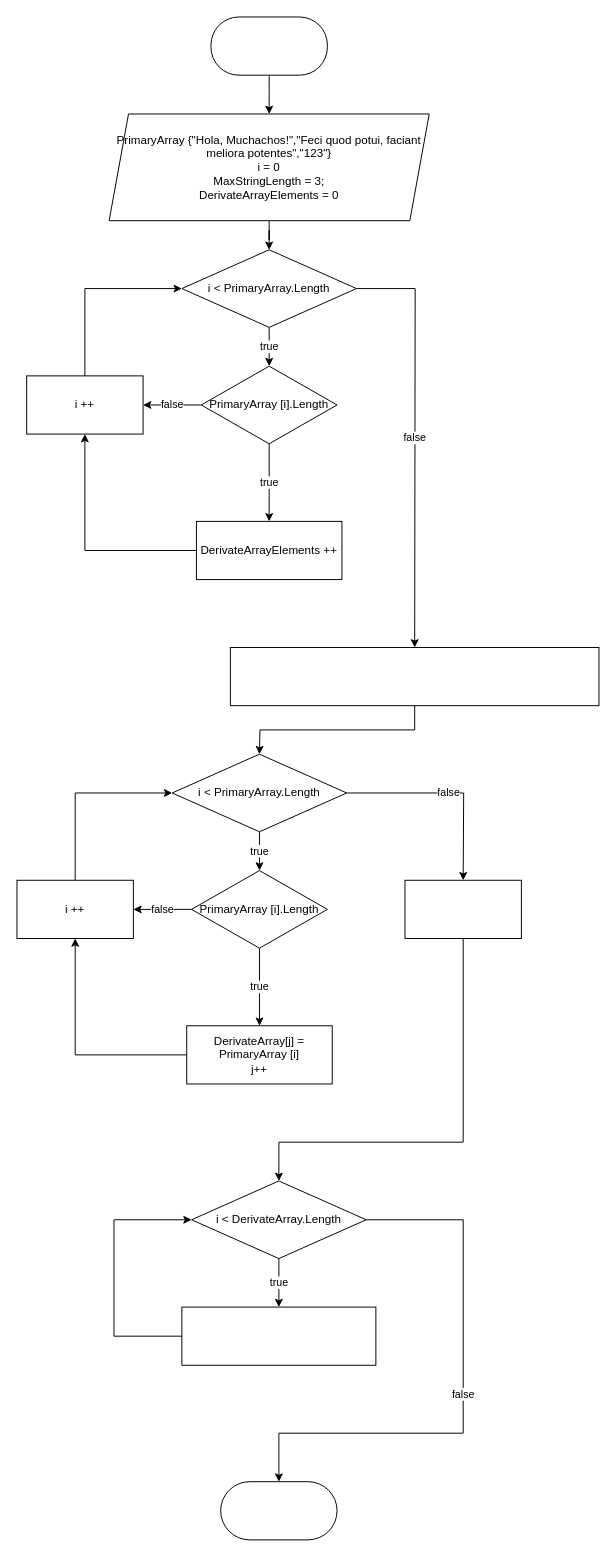
This 616x1557 diagram has some shape labels left out. The centre of each missing label's shape, as x and y in pixels:
"Console.WriteLine (DerivateArray [i]) i++" belongs at (x=278, y=1335).
"i = 0" belongs at (x=462, y=908).
"i=0 j=0 string [] DerivateArray = new string [DerivateArrayElements]" belongs at (x=414, y=676).
"Start" belongs at (x=268, y=45).
"Stop" belongs at (x=278, y=1510).
